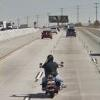Motorcycle: (34, 52, 68, 100)
